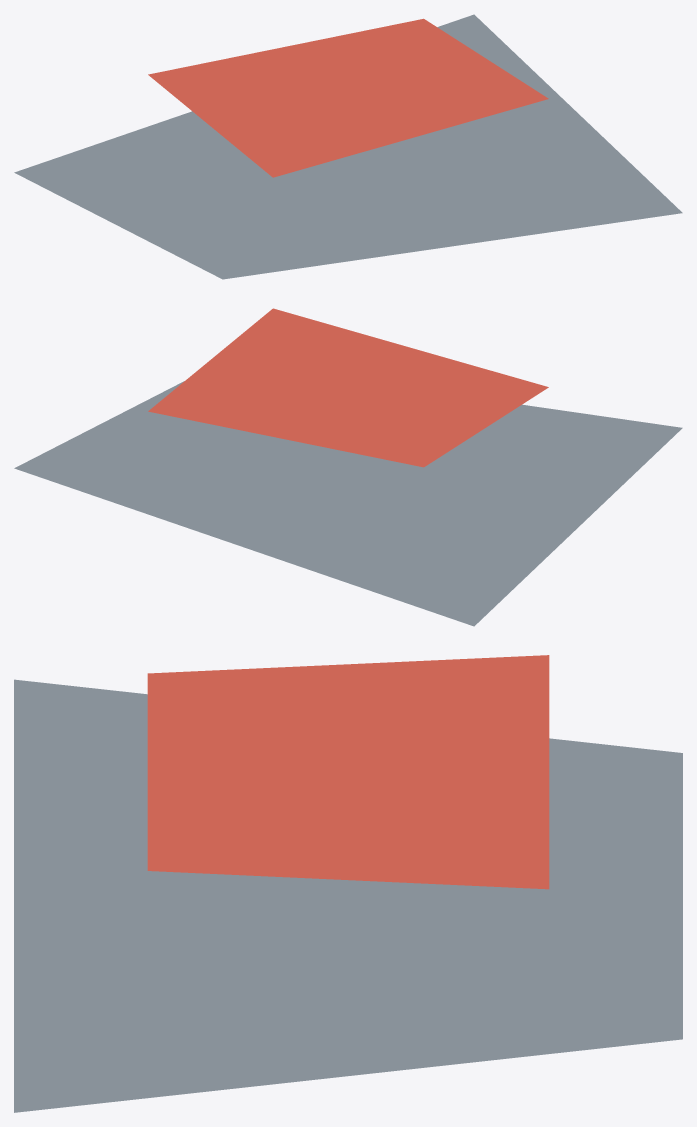
The model's file is SU_KorshunGunship_LOD2.glb.
3 renders of one model, top to bottom at view 1: azimuth 30°, elevation 25°; view 2: azimuth 150°, elevation 25°; view 3: azimuth 270°, elevation 25°, orthographic. The views are drawn at different scales.
Visible parts, largest first — view 1: EntranceGate; view 2: EntranceGate; view 3: EntranceGate.
Boxes of the visible parts, left/top/right/bottom form: EntranceGate: left=14, top=14, right=682, bottom=279; EntranceGate: left=14, top=308, right=682, bottom=626; EntranceGate: left=14, top=655, right=682, bottom=1112.
Size of the model in its own units: 700 by 154 by 550.
